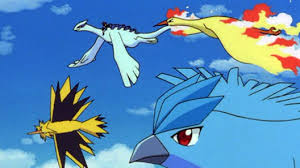lugia: (73, 19, 89, 33)
